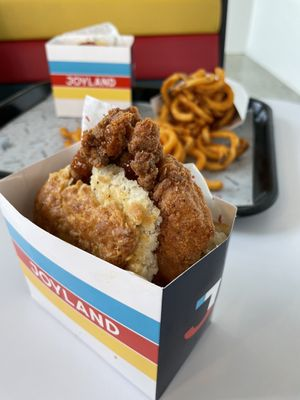sushi: (0, 104, 294, 397)
